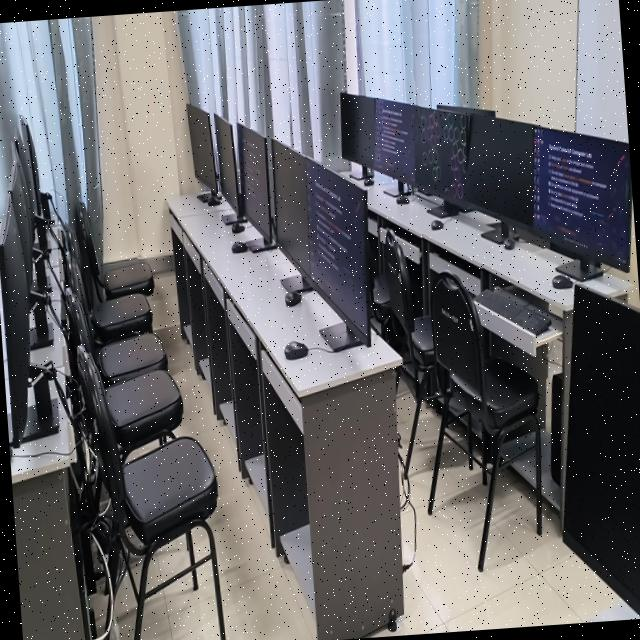Chair: (76, 347, 224, 640), (426, 271, 540, 570), (64, 288, 182, 460), (383, 227, 442, 476), (66, 247, 166, 386), (67, 229, 150, 344), (78, 202, 153, 298), (366, 245, 389, 324)
Cpu: (549, 372, 562, 484)
Keyboard: (472, 287, 550, 335)
Monitor: (559, 284, 640, 616), (532, 125, 631, 280), (0, 195, 57, 446), (302, 157, 369, 349), (464, 109, 533, 247), (6, 148, 52, 347), (270, 138, 311, 293), (235, 123, 275, 251), (413, 105, 466, 198), (373, 97, 417, 180), (186, 103, 220, 204), (19, 115, 50, 221), (339, 91, 373, 166), (213, 114, 237, 212), (12, 127, 35, 221)
Mouse: (283, 340, 307, 358), (551, 273, 571, 287), (284, 290, 300, 305), (206, 189, 219, 204), (230, 240, 246, 252), (230, 220, 243, 232), (502, 236, 514, 248), (430, 218, 442, 228), (395, 193, 408, 202), (362, 175, 372, 184)
